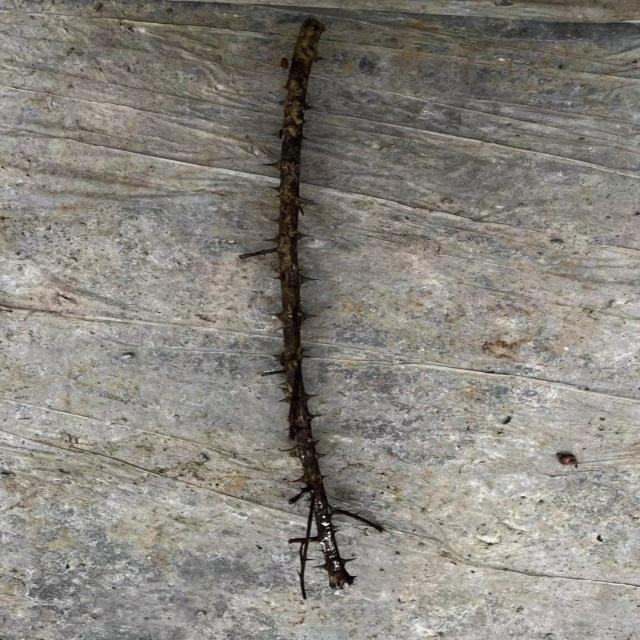branch: (277, 19, 354, 589)
